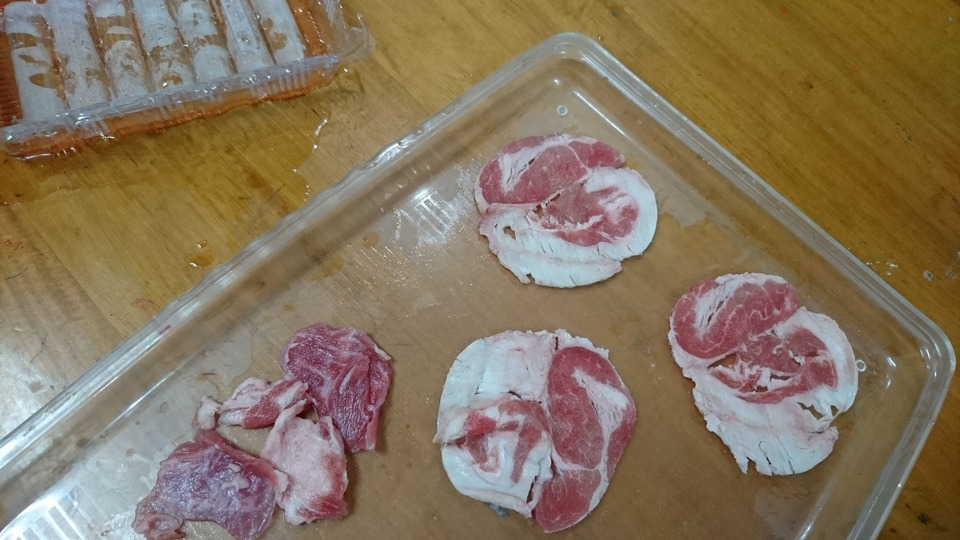restructured meat: (142, 326, 382, 535), (437, 316, 643, 530), (666, 262, 858, 479), (474, 133, 660, 289)
